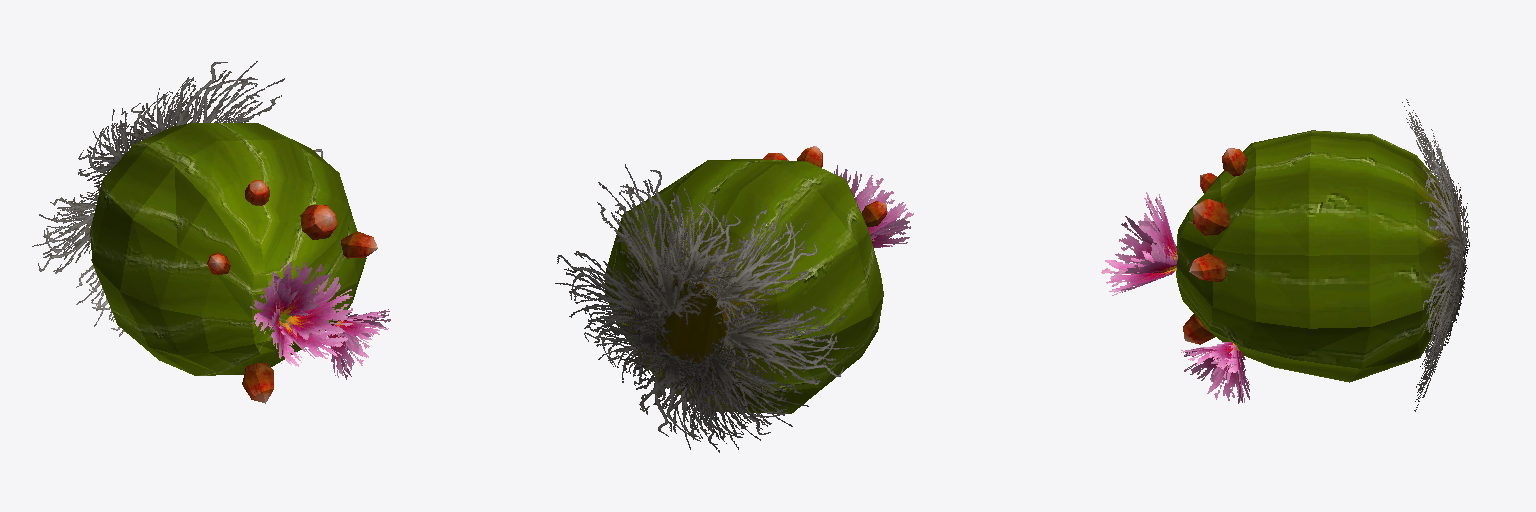
The picture shows the model from 3 angles: view 1: azimuth 30°, elevation 25°; view 2: azimuth 150°, elevation 25°; view 3: azimuth 270°, elevation 25°; orthographic projection.
Parts seen in each view (by area): view 1: Object.1; view 2: Object.1; view 3: Object.1.
Boxes of the visible parts, box(x1,y1,x2,y2) form: Object.1: box(32, 61, 390, 403); Object.1: box(555, 146, 913, 452); Object.1: box(1101, 99, 1469, 411).
Bounding box in the file's own units: 172 × 161 × 188.
Materials: 1 (1 with a texture image).